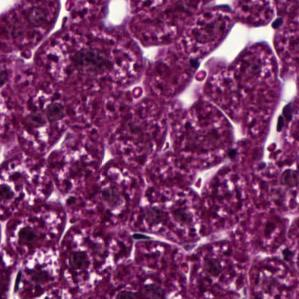inflammation: (3, 214, 43, 251), (65, 244, 96, 273)
